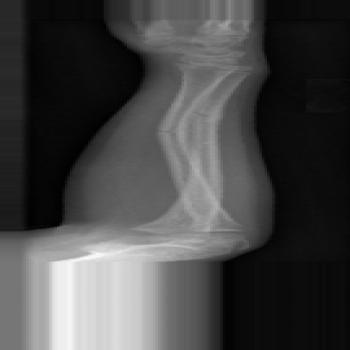Fracture: (147, 125, 180, 137)
